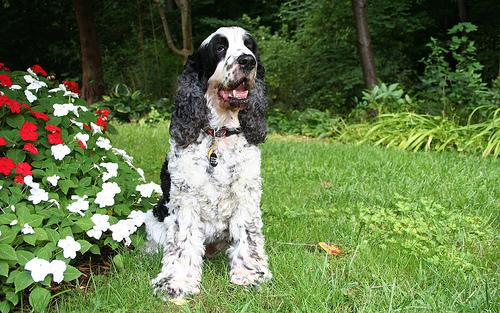dog: (168, 25, 266, 143)
